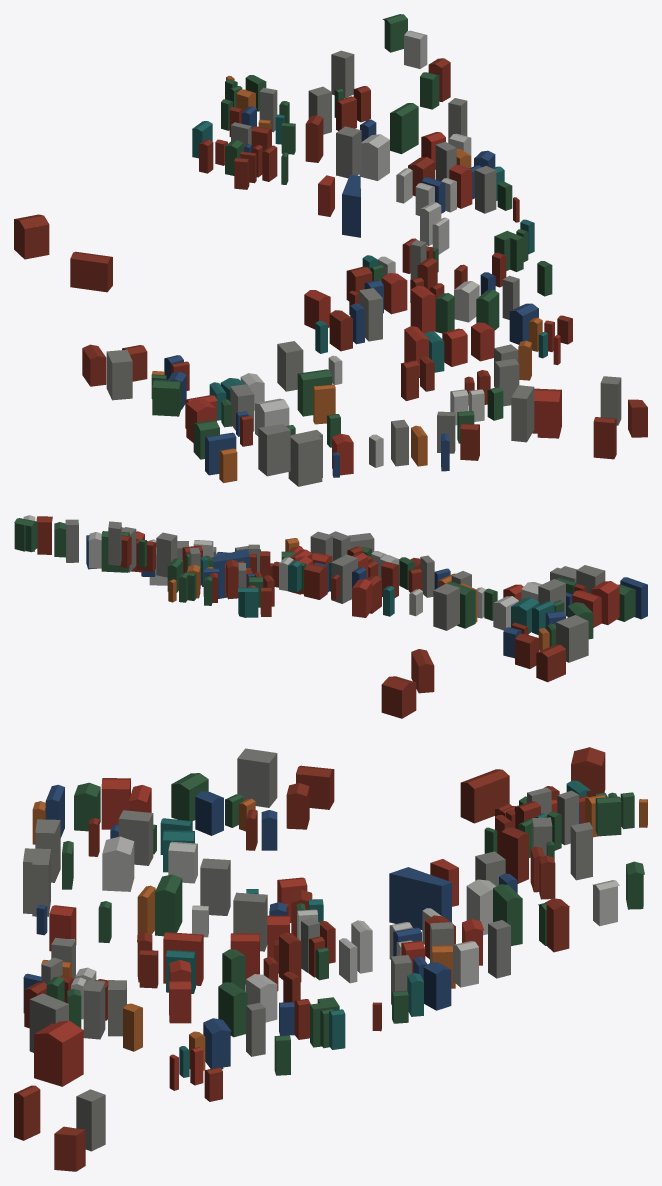
Rendered from near-17-109433-59479.3f9ffa7a.glb.
The picture shows the model from 3 angles, top to bottom: view 1: azimuth 30°, elevation 25°; view 2: azimuth 150°, elevation 25°; view 3: azimuth 270°, elevation 25°; orthographic projection. The views are drawn at different scales.
Size of the model in its own units: 299 by 151 by 293.
